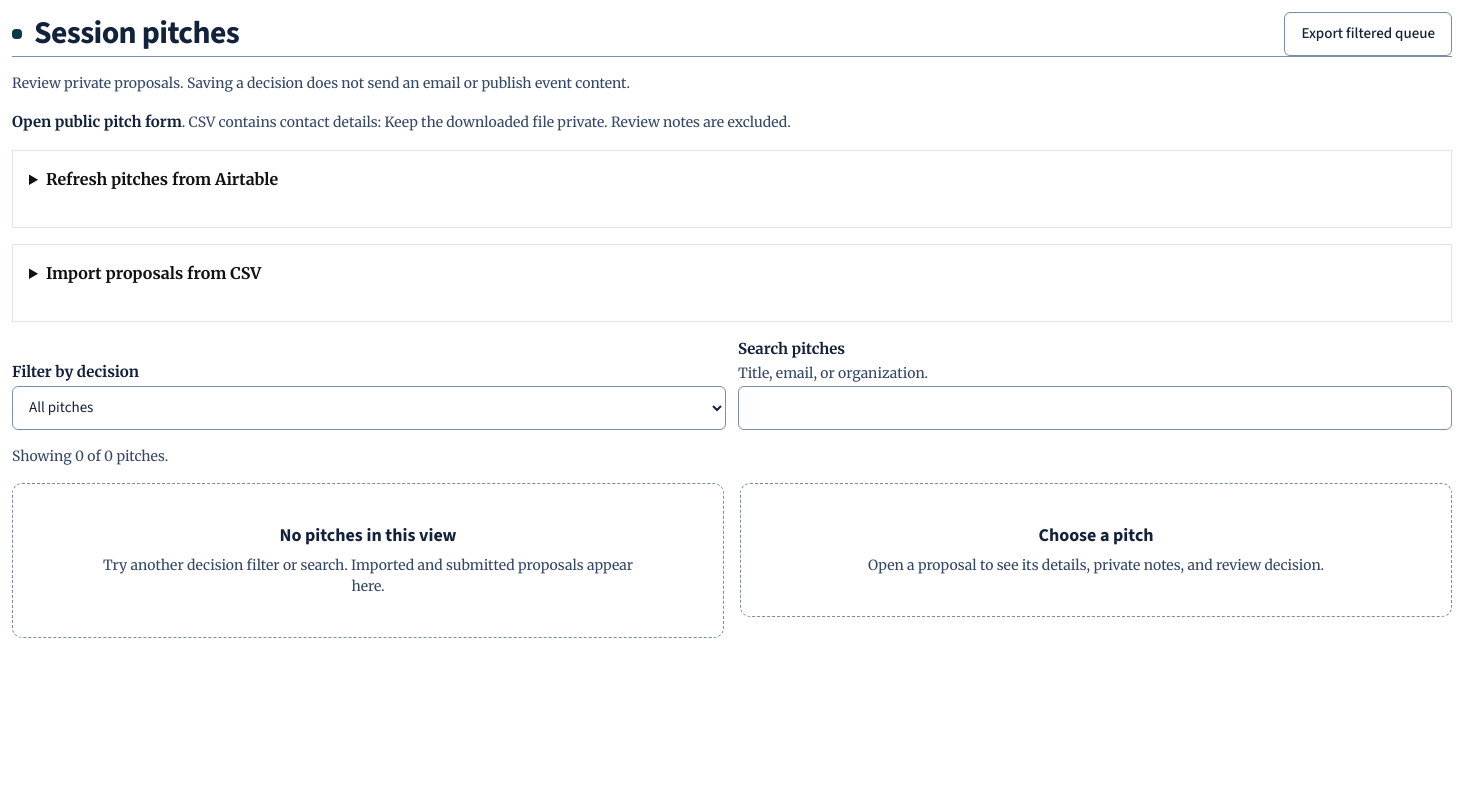
Airtable refresh status and action › refreshes once per press, reports the counts, and ignores a second press while busy
Click the heading "Refresh pitches from Airtable". click: (162, 179)
box: [46, 169, 278, 189]
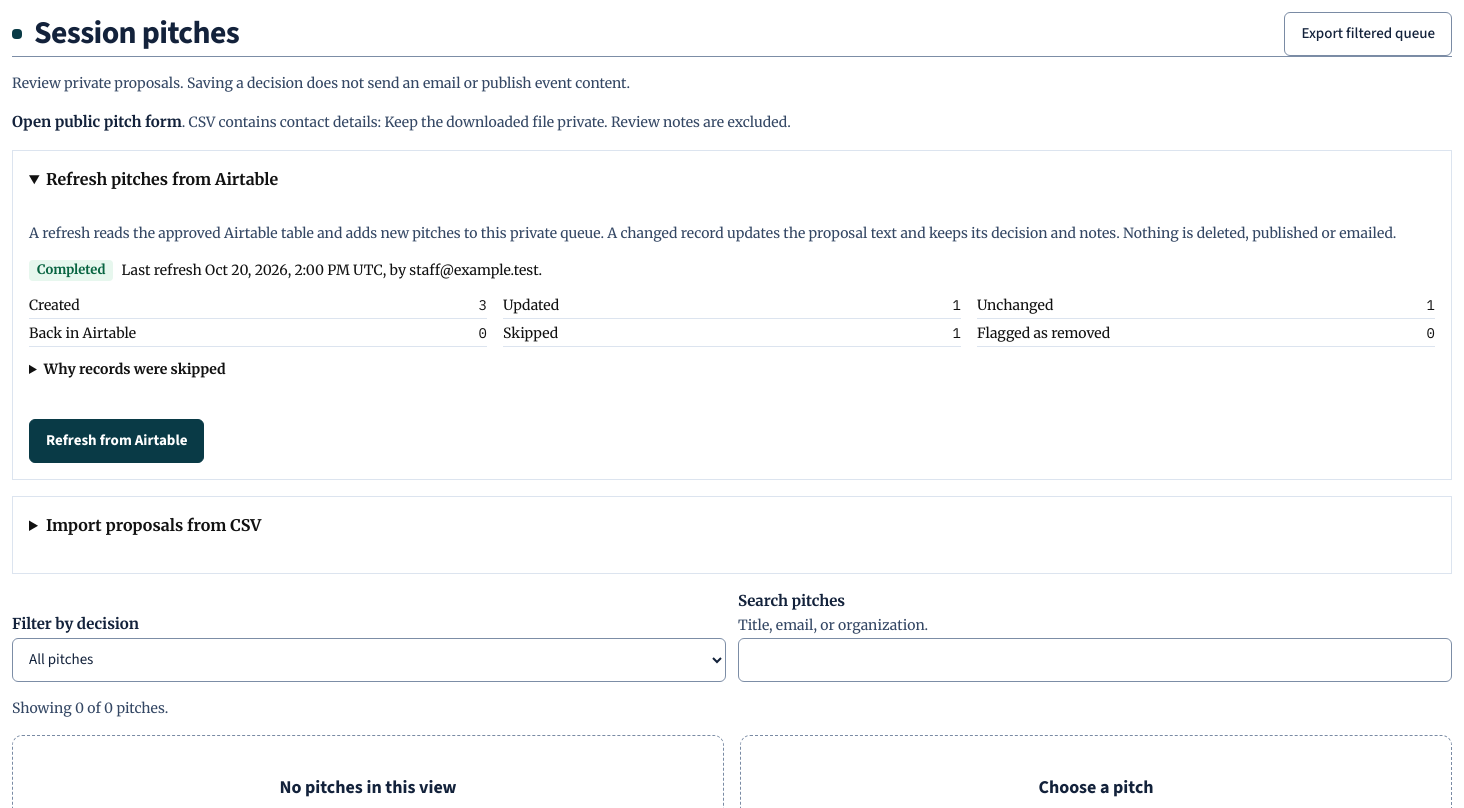
Click the button "Refresh from Airtable". click: (117, 441)
box: [29, 419, 204, 463]
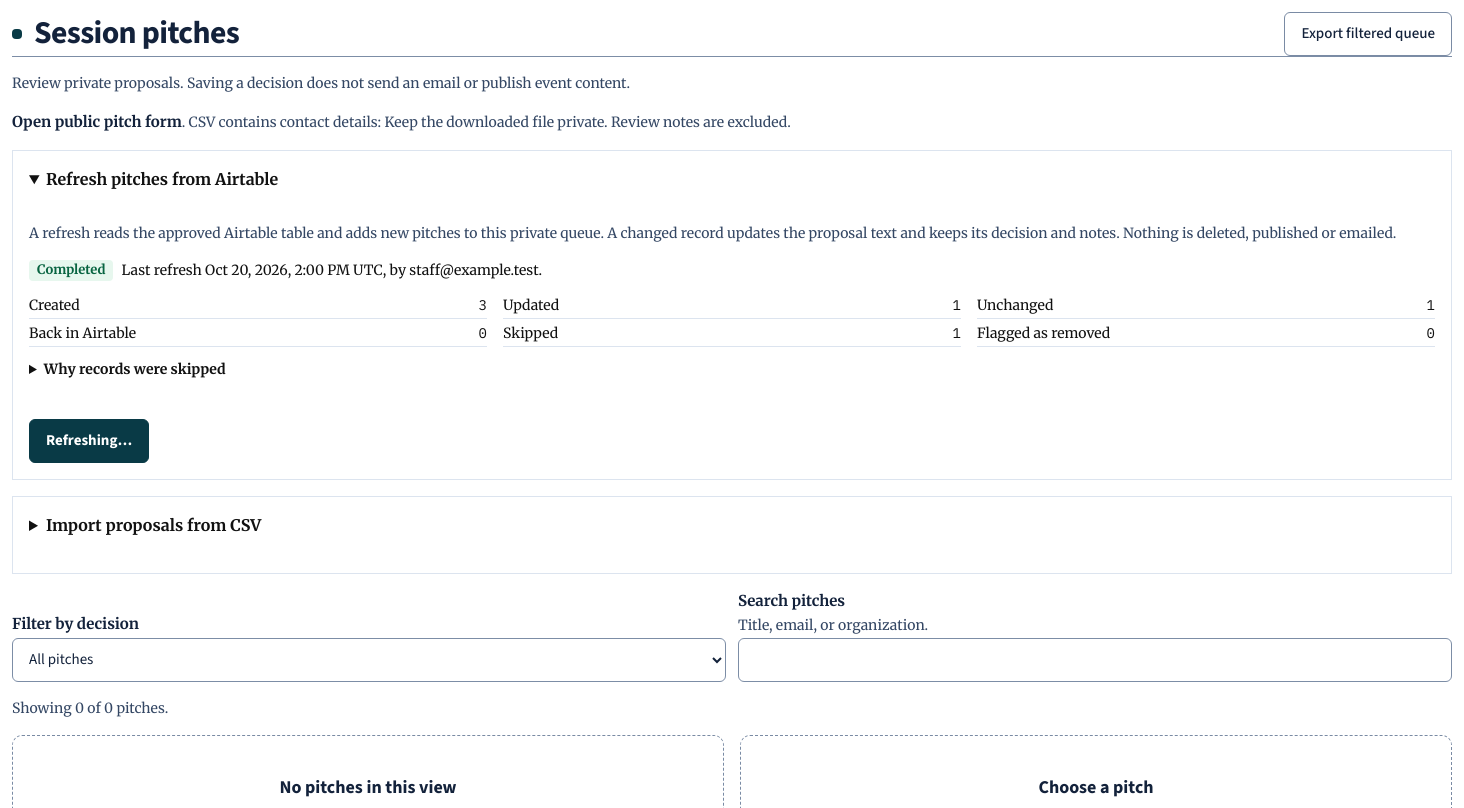
Now the button "Refreshing…" has attribute aria-busy="true"
Click the button "Refreshing…". click: (89, 441)
box: [29, 419, 149, 463]
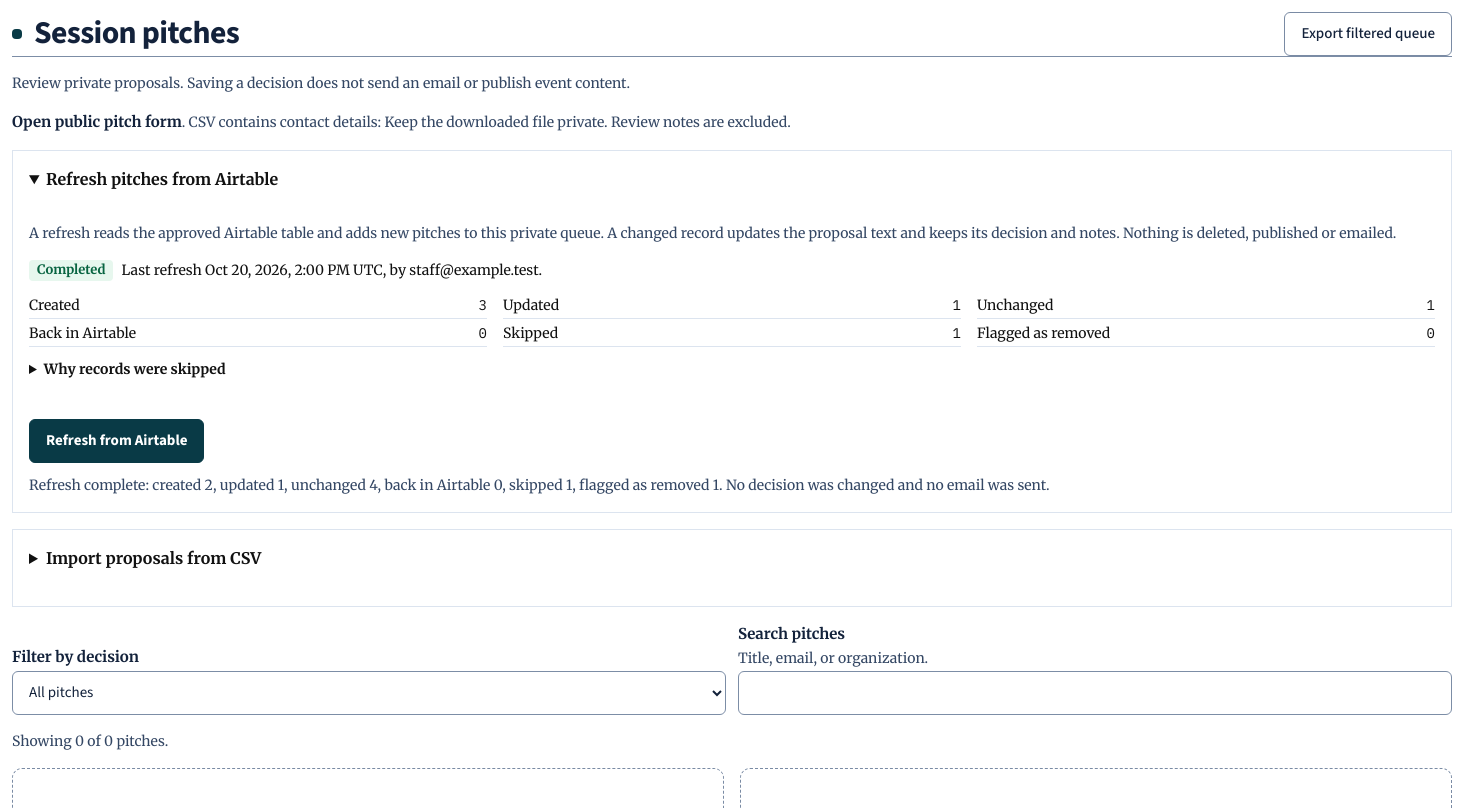
Now the text "Refresh complete: created 2, updated 1, unchanged 4, back in Airtable 0, skipped 1, flagged as removed 1. No decision w" is shown, box [29, 476, 1050, 494]
